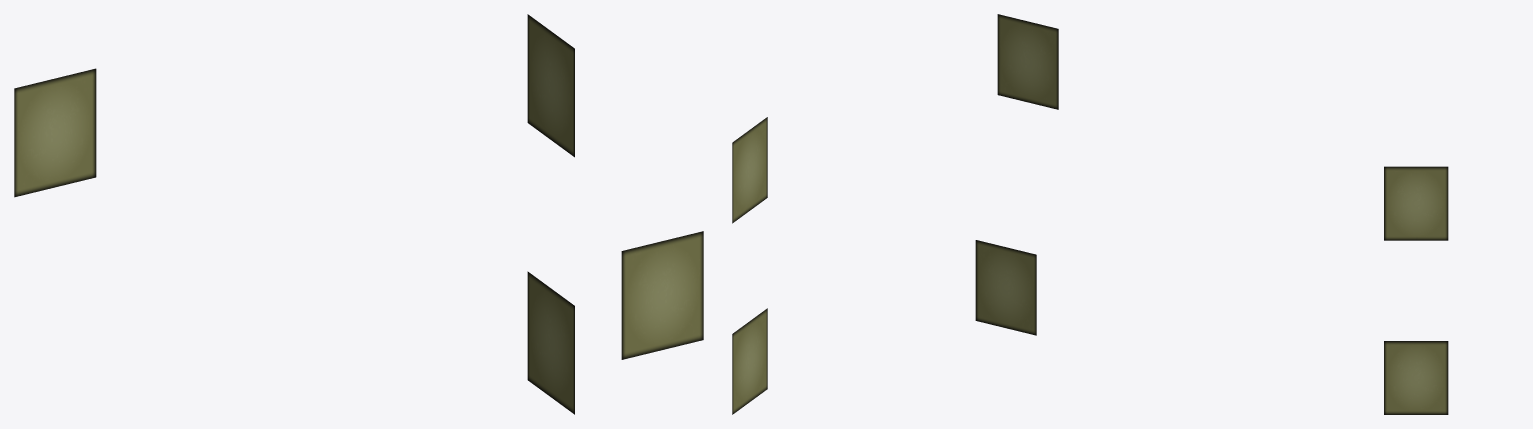
Rendered from house_17.FBX.
The picture shows the model from 3 angles, left to right: view 1: azimuth 30°, elevation 25°; view 2: azimuth 150°, elevation 25°; view 3: azimuth 270°, elevation 25°; orthographic projection. The views are drawn at different scales.
Parts seen in each view (by area): view 1: house_17_windows; view 2: house_17_windows; view 3: house_17_windows.
Boxes of the visible parts, x1=… form: house_17_windows: x1=14, y1=14, x2=703, y2=414; house_17_windows: x1=732, y1=14, x2=1058, y2=414; house_17_windows: x1=1384, y1=166, x2=1448, y2=414.
Size of the model in its own units: 63.83 by 48.4 by 76.29.
